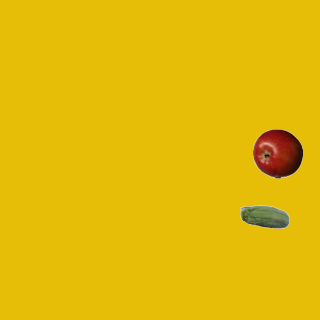Apple Braeburn: (252, 128, 302, 178)
Corn Husk: (239, 193, 289, 243)
